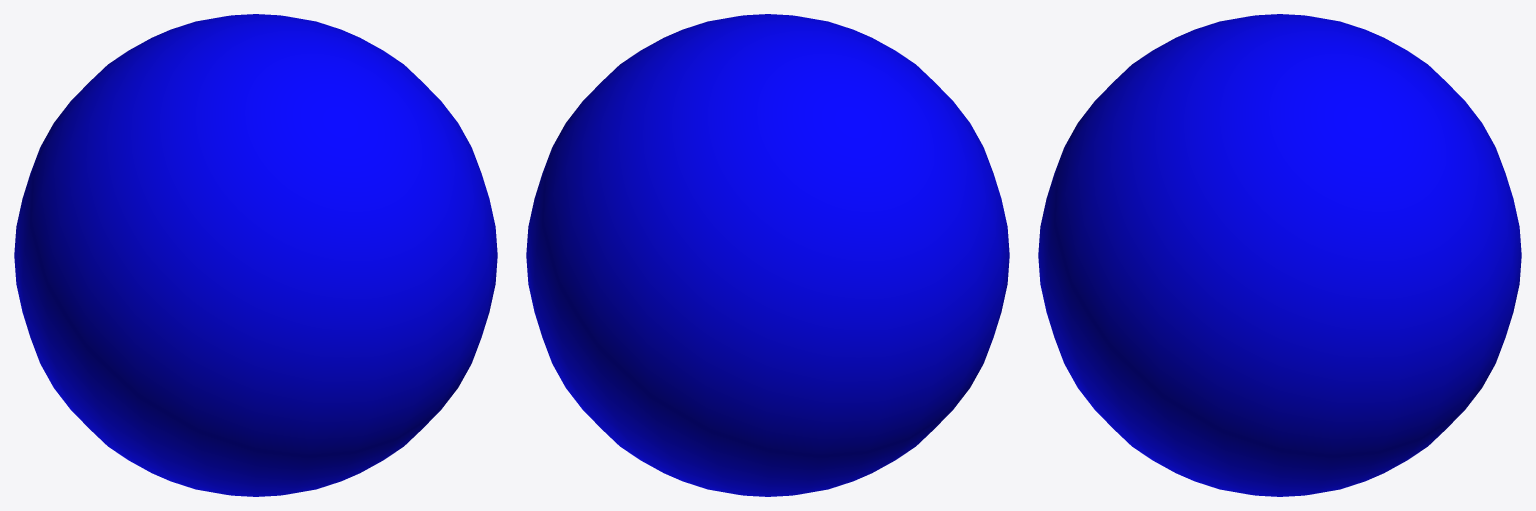
The model's file is spherehi.obj.
The picture shows the model from 3 angles, left to right: view 1: azimuth 30°, elevation 25°; view 2: azimuth 150°, elevation 25°; view 3: azimuth 270°, elevation 25°; orthographic projection.
Visible parts, largest first — view 1: spherehi; view 2: spherehi; view 3: spherehi.
Boxes of the visible parts, bbox=[...] form: spherehi: bbox=[14, 14, 497, 496]; spherehi: bbox=[526, 14, 1009, 496]; spherehi: bbox=[1038, 14, 1521, 496].
Size of the model in its own units: 12 by 12 by 12.
